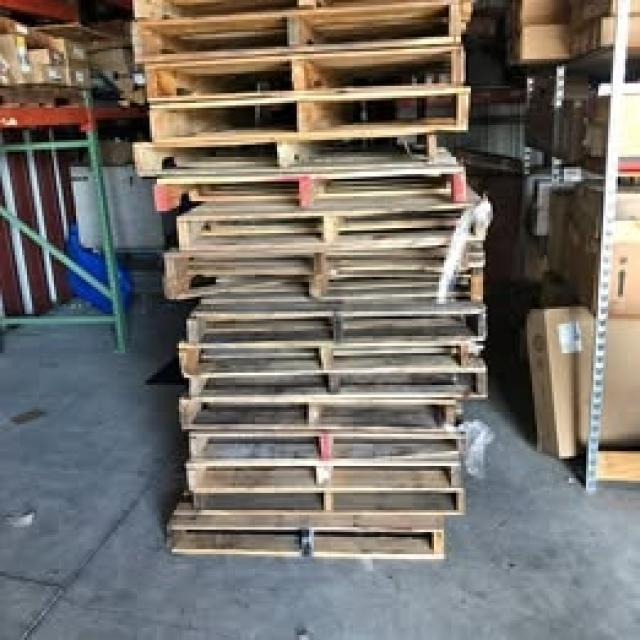non-igps: (126, 0, 484, 75), (140, 78, 483, 155), (155, 489, 450, 568), (136, 37, 475, 104), (158, 244, 490, 311), (142, 162, 475, 228), (169, 196, 496, 258), (172, 331, 481, 395), (186, 297, 493, 360), (120, 131, 443, 184), (174, 388, 464, 442), (186, 418, 471, 472), (180, 447, 470, 498), (186, 472, 469, 524), (185, 361, 496, 408), (121, 0, 465, 20)
